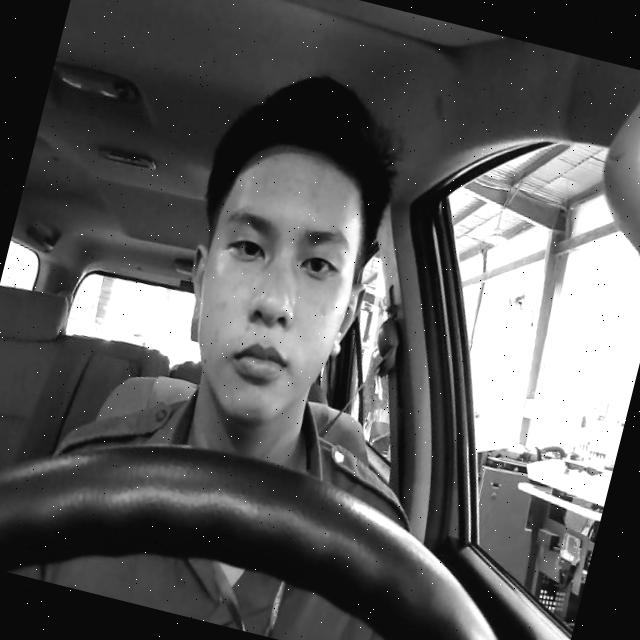focused: (156, 129, 394, 441)
